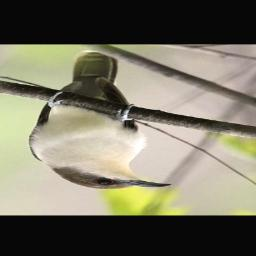Cuckoo: (28, 49, 174, 190)
